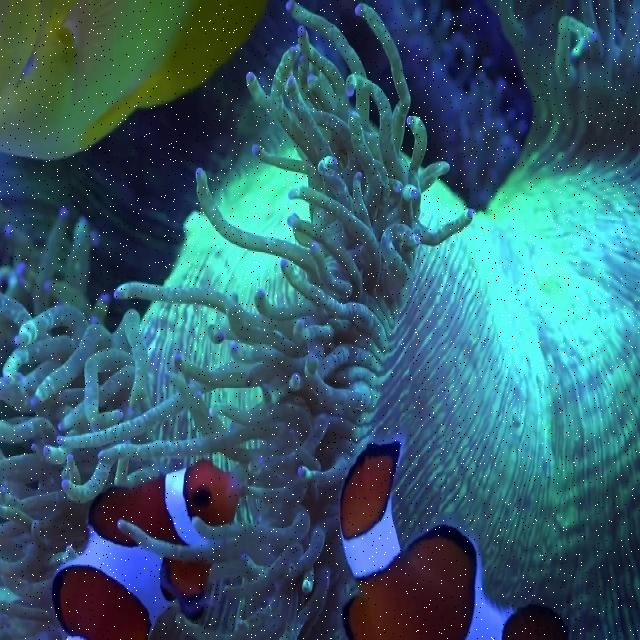fish: (339, 441, 568, 638), (1, 3, 268, 157), (52, 459, 242, 638)
reefs: (0, 0, 639, 639)
